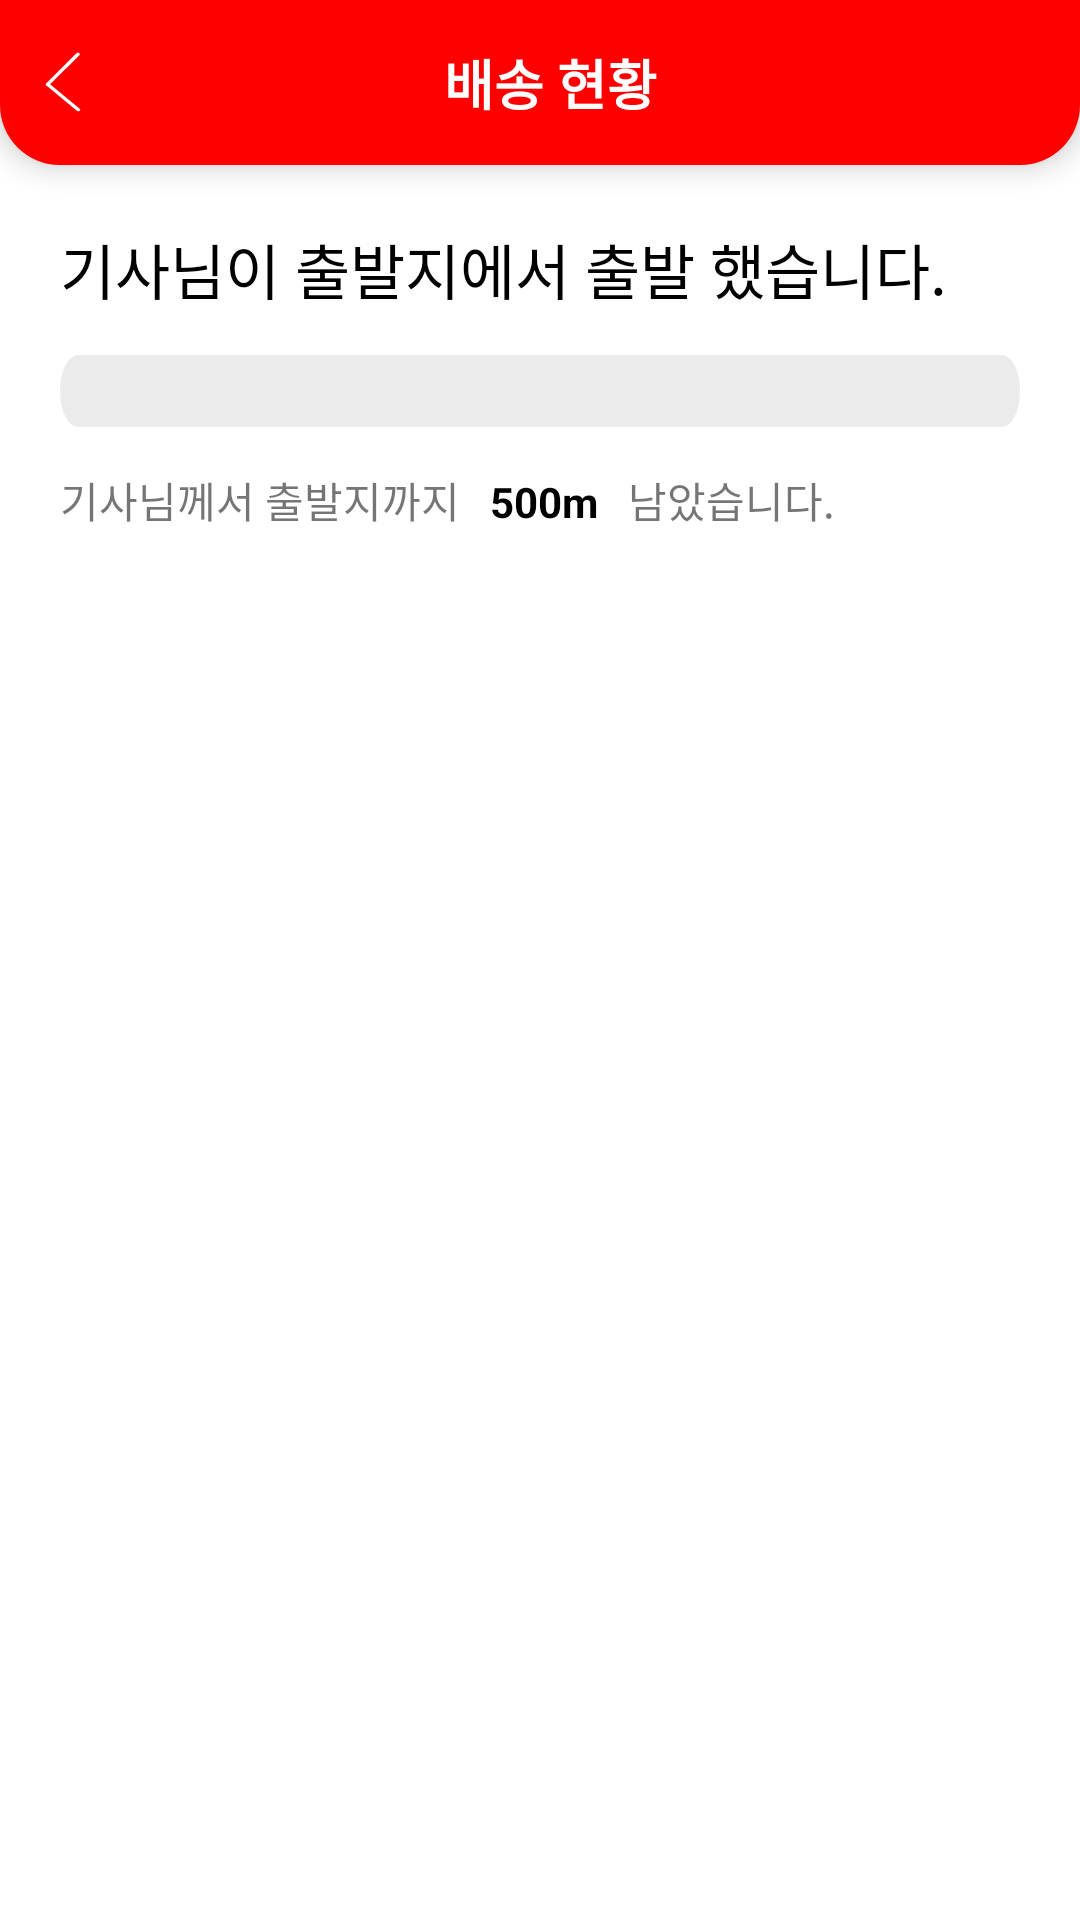

Icons on this 1080px x 1920px Android screen, each with its box as (x1, y1, x2, y2):
back: (45, 52, 81, 112)
